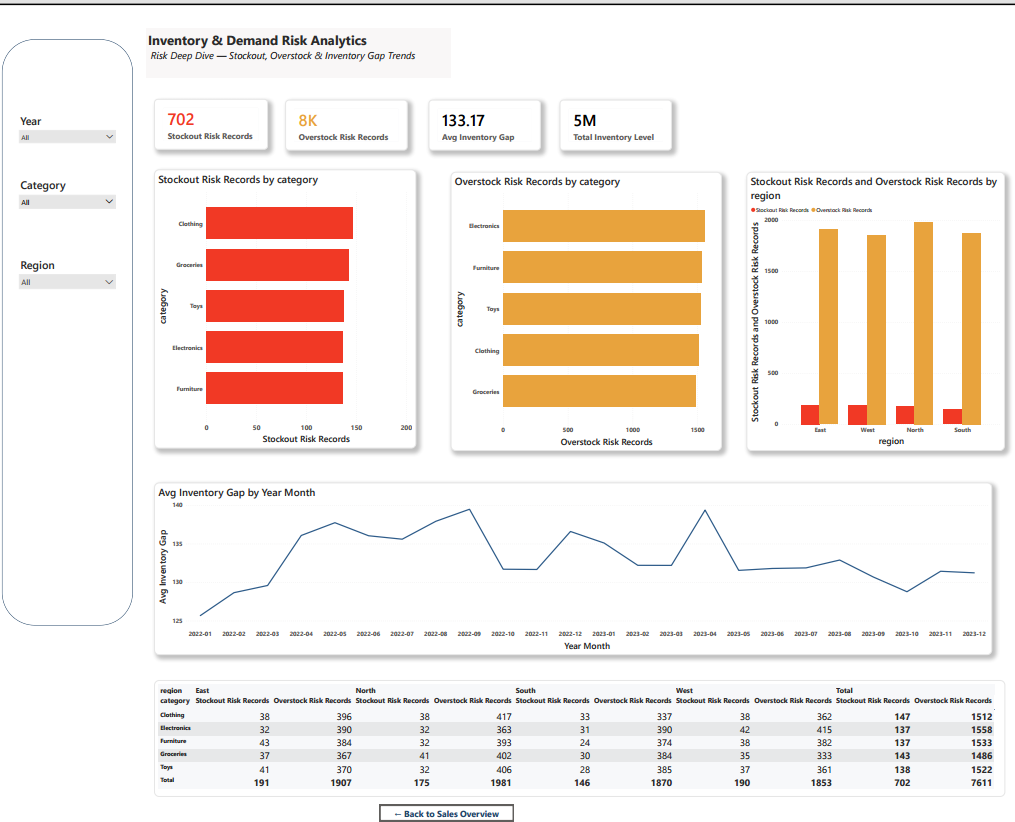

The page's visual inventory and layout, read from the dashboard file:
{"tool":"powerbi","page":{"name":"Page 2","canvas":[2500,2000],"ordinal":1},"visuals":[{"type":"textbox","box":[364.3,50,742.9,121.4],"z":0},{"type":"clusteredBarChart","fields":{"Category":["Sales Forecast.category"],"Y":["Measure Table.Stockout Risk Records"]},"box":[383.9,394.6,639.3,680.4],"z":1000},{"type":"clusteredBarChart","fields":{"Category":["Sales Forecast.category"],"Y":["Measure Table.Overstock Risk Records"]},"box":[1107.1,400,660.7,680.4],"z":2000},{"type":"lineChart","fields":{"Category":["Date Table.Year Month"],"Y":["Measure Table.Avg Inventory Gap"]},"box":[383.9,1158.9,2044.6,419.6],"z":3000},{"type":"clusteredColumnChart","fields":{"Category":["Sales Forecast.region"],"Y":["Measure Table.Stockout Risk Records","Measure Table.Overstock Risk Records"]},"box":[1830.4,400,630.4,680.4],"z":4000},{"type":"pivotTable","fields":{"Rows":["Sales Forecast.category"],"Columns":["Sales Forecast.region"],"Values":["Measure Table.Stockout Risk Records","Measure Table.Overstock Risk Records"]},"box":[383.9,1639.3,2076.8,283.9],"z":5000},{"type":"shape","box":[12.5,76.8,319.6,1430.4],"z":6000},{"type":"slicer","fields":{"Values":["Sales Forecast.category"]},"box":[44.6,407.1,255.4,96.4],"z":7000},{"type":"slicer","fields":{"Values":["Sales Forecast.region"]},"box":[44.6,601.8,255.4,103.6],"z":8000},{"type":"slicer","fields":{"Values":["Date Table.Year"]},"box":[44.6,250,255.4,94.6],"z":9000},{"type":"cardVisual","fields":{"Data":["Measure Table.Stockout Risk Records"]},"box":[383.9,221.4,276.8,123.2],"z":10000},{"type":"cardVisual","fields":{"Data":["Measure Table.Overstock Risk Records"]},"box":[703.6,225,298.2,123.2],"z":11000},{"type":"cardVisual","fields":{"Data":["Measure Table.Avg Inventory Gap"]},"box":[1053.6,225,273.2,123.2],"z":12000},{"type":"cardVisual","fields":{"Data":["Measure Table.Total Inventory Level"]},"box":[1373.2,225,273.2,123.2],"z":13000},{"type":"actionButton","title":"View Risk Analytics →","box":[934.5,1943.1,327.6,39.7],"z":13001}]}

Visuals, with their boxes in screenshot pixels (x1, y1, x2, y2), scaled from the page's 2500x2000 canvas onto the 1015x822 screenshot:
textbox: {"left": 148, "top": 21, "right": 450, "bottom": 70}
clusteredBarChart - Sales Forecast.category x Measure Table.Stockout Risk Records: {"left": 156, "top": 162, "right": 415, "bottom": 442}
clusteredBarChart - Sales Forecast.category x Measure Table.Overstock Risk Records: {"left": 449, "top": 164, "right": 718, "bottom": 444}
lineChart - Date Table.Year Month x Measure Table.Avg Inventory Gap: {"left": 156, "top": 476, "right": 986, "bottom": 649}
clusteredColumnChart - Sales Forecast.region x Measure Table.Stockout Risk Records: {"left": 743, "top": 164, "right": 999, "bottom": 444}
pivotTable - Sales Forecast.category x Sales Forecast.region: {"left": 156, "top": 674, "right": 999, "bottom": 790}
shape: {"left": 5, "top": 32, "right": 135, "bottom": 619}
slicer - Sales Forecast.category: {"left": 18, "top": 167, "right": 122, "bottom": 207}
slicer - Sales Forecast.region: {"left": 18, "top": 247, "right": 122, "bottom": 290}
slicer - Date Table.Year: {"left": 18, "top": 103, "right": 122, "bottom": 142}
cardVisual - Measure Table.Stockout Risk Records: {"left": 156, "top": 91, "right": 268, "bottom": 142}
cardVisual - Measure Table.Overstock Risk Records: {"left": 286, "top": 92, "right": 407, "bottom": 143}
cardVisual - Measure Table.Avg Inventory Gap: {"left": 428, "top": 92, "right": 539, "bottom": 143}
cardVisual - Measure Table.Total Inventory Level: {"left": 558, "top": 92, "right": 668, "bottom": 143}
"View Risk Analytics →" actionButton: {"left": 379, "top": 799, "right": 512, "bottom": 815}
